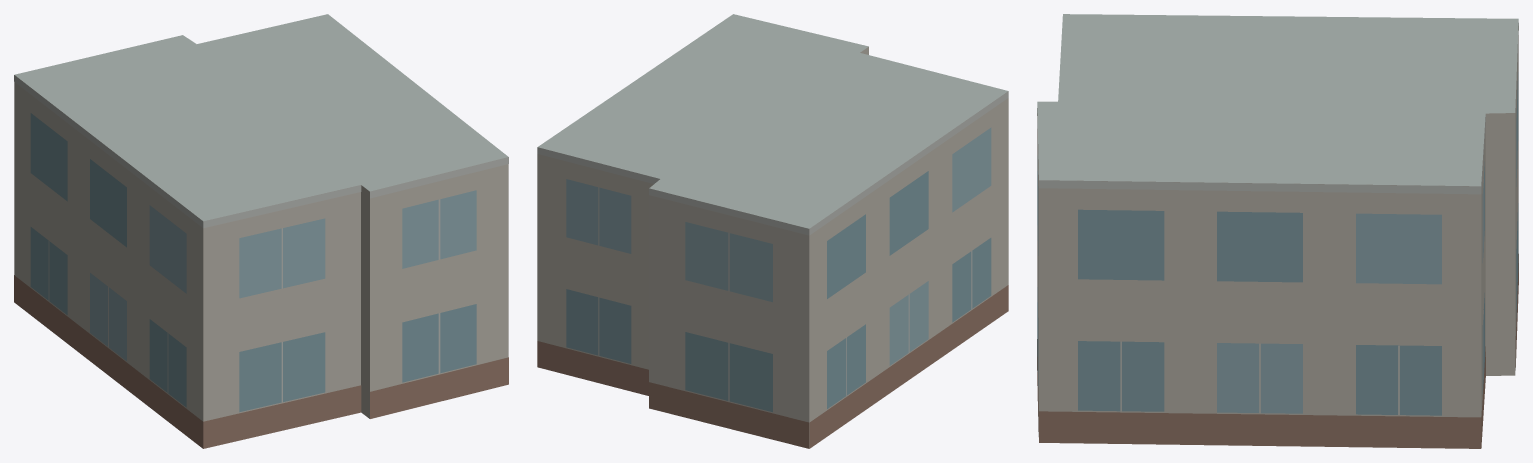
Rendered from survey-upis-32850024.glb.
3 renders of one model, left to right at view 1: azimuth 30°, elevation 25°; view 2: azimuth 150°, elevation 25°; view 3: azimuth 270°, elevation 25°, orthographic. The views are drawn at different scales.
Visible parts, largest first — view 1: survey-upis-32850024.tmp; view 2: survey-upis-32850024.tmp; view 3: survey-upis-32850024.tmp.
Boxes of the visible parts, x1,y1,x2,y2 form: survey-upis-32850024.tmp: [14, 14, 508, 448]; survey-upis-32850024.tmp: [537, 14, 1008, 448]; survey-upis-32850024.tmp: [1037, 14, 1518, 448].
Size of the model in its own units: 11.2 by 7.95 by 13.22.
